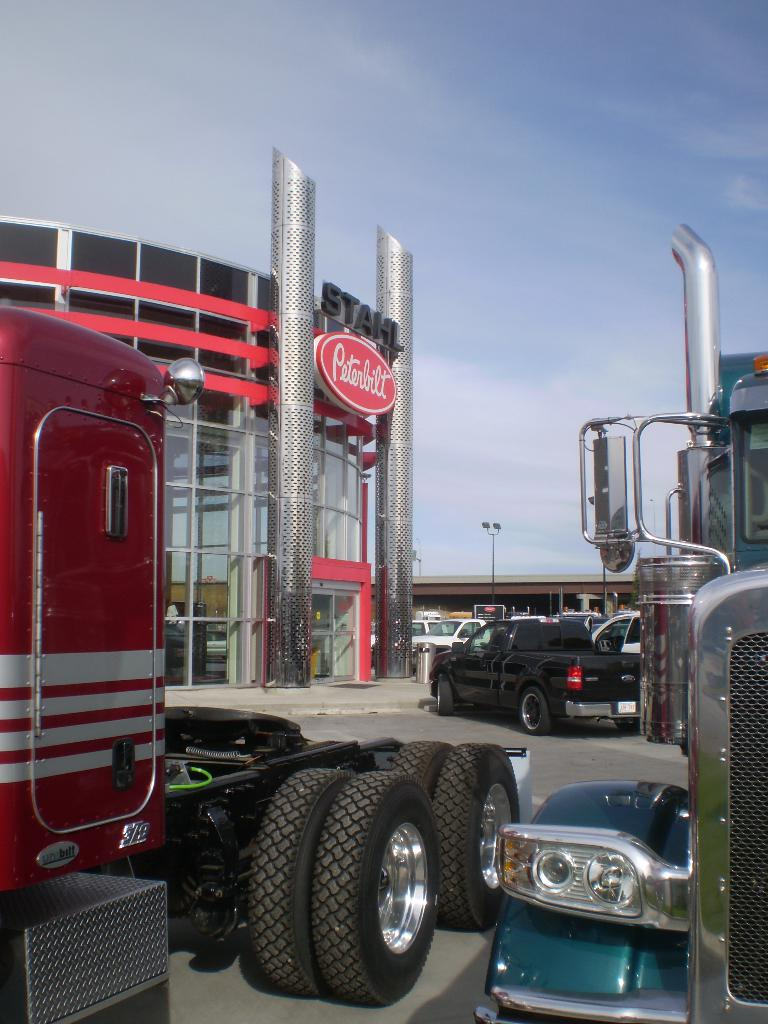Wheel: (248, 741, 525, 1009), (516, 684, 555, 729), (430, 673, 458, 715)
